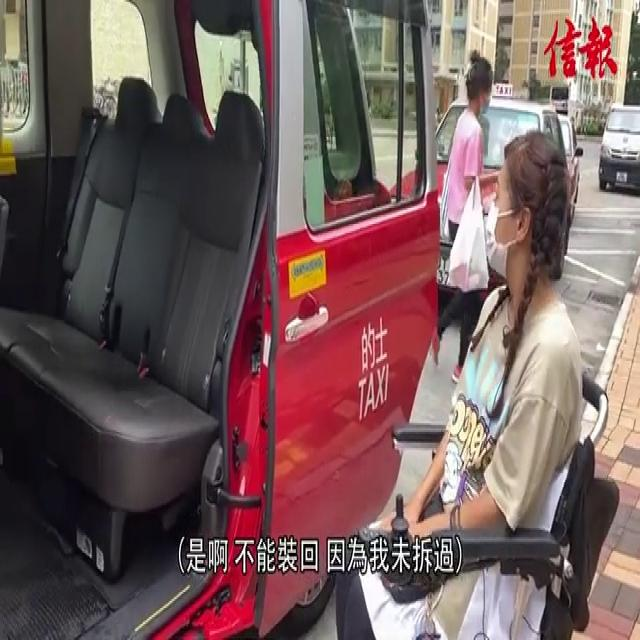wheelchairs: (359, 314, 622, 640)
